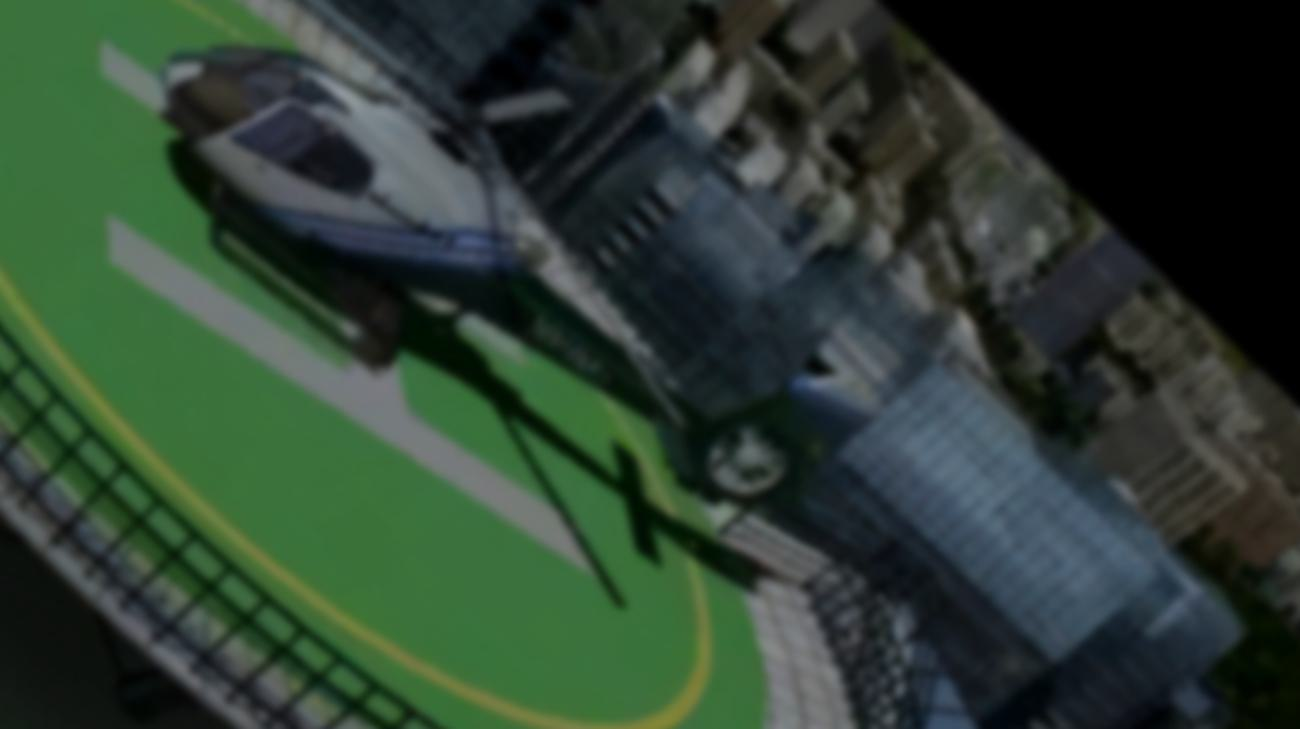Apron: (1, 1, 726, 727)
